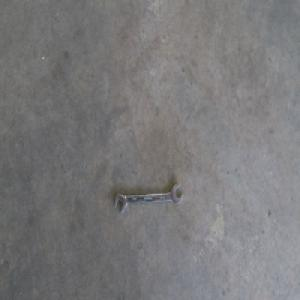Wrench: (116, 180, 183, 208)
